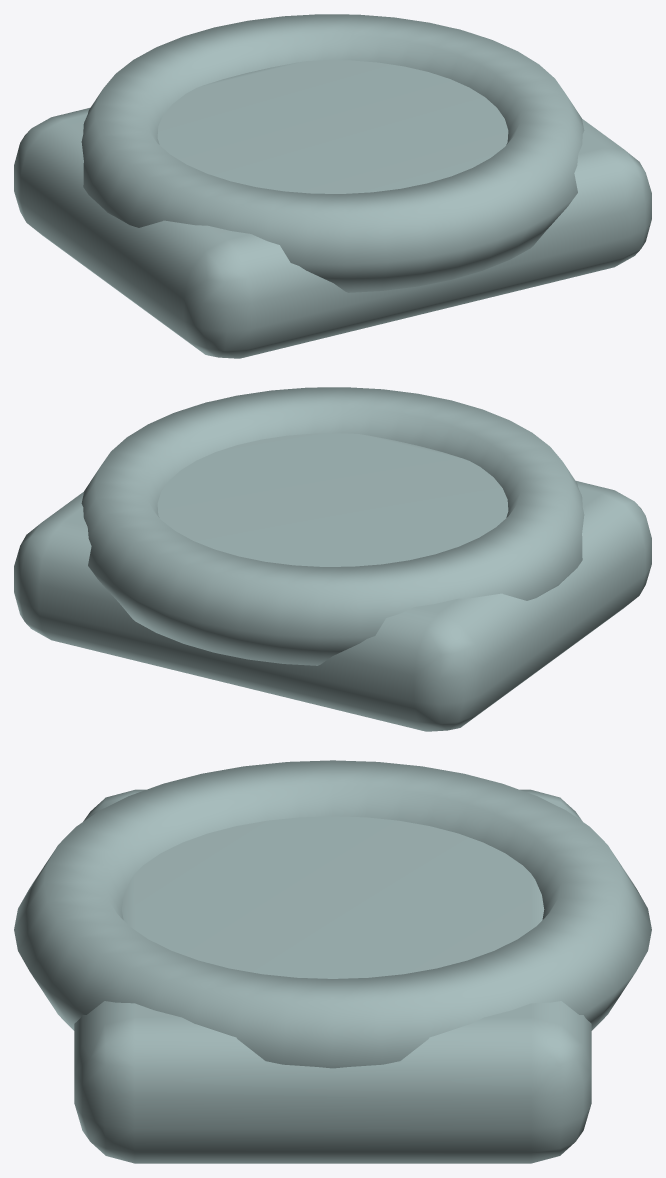
File: atelier-pet-bed.glb
The picture shows the model from 3 angles, top to bottom: view 1: azimuth 30°, elevation 25°; view 2: azimuth 150°, elevation 25°; view 3: azimuth 270°, elevation 25°; orthographic projection. The views are drawn at different scales.
Visible parts, largest first — view 1: fabric.110; view 2: fabric.110; view 3: fabric.110.
Part boxes in pixels (x1=…): fabric.110: x1=14, y1=14, x2=651, y2=358; fabric.110: x1=14, y1=387, x2=651, y2=731; fabric.110: x1=14, y1=760, x2=651, y2=1163.
Size of the model in its own units: 0.75 by 0.2106 by 0.74.
